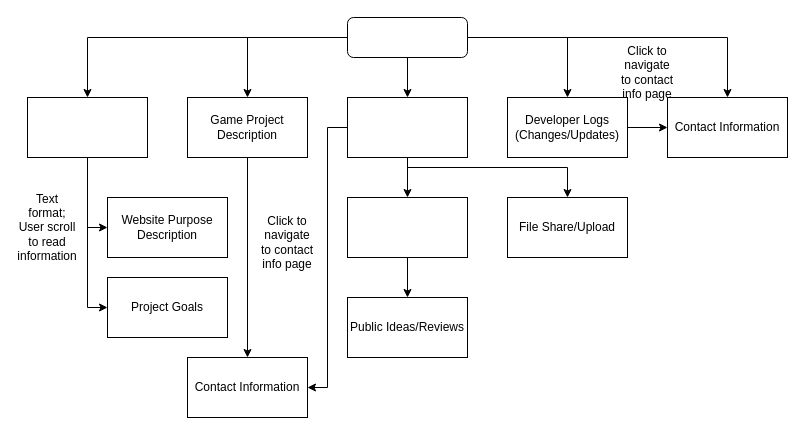
Some shapes in this 805 by 435 pixel diagram are drawn without their labels. The centre of each missing label's shape, as x and y in pixels:
"File Peer Review Notes" goes at point (407, 227).
"File/Document Viewer" goes at point (407, 127).
"Home Page" goes at point (407, 37).
"Website Introduction (About Us)" goes at point (87, 127).
